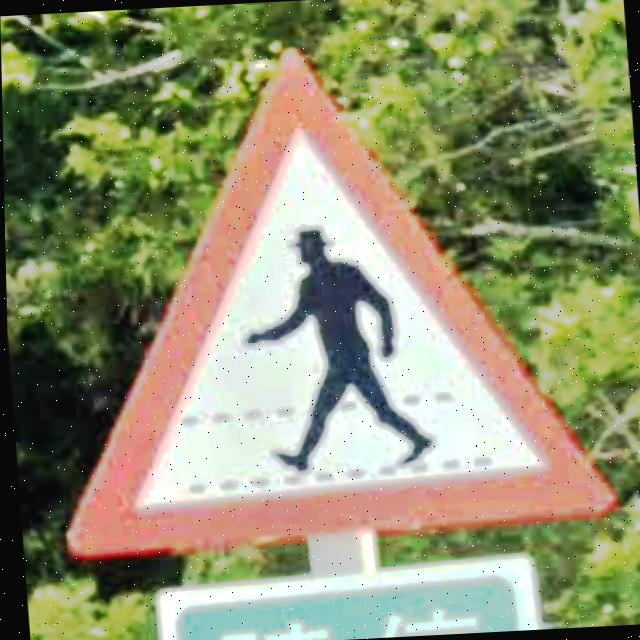pedestriancross: (66, 53, 617, 555)
